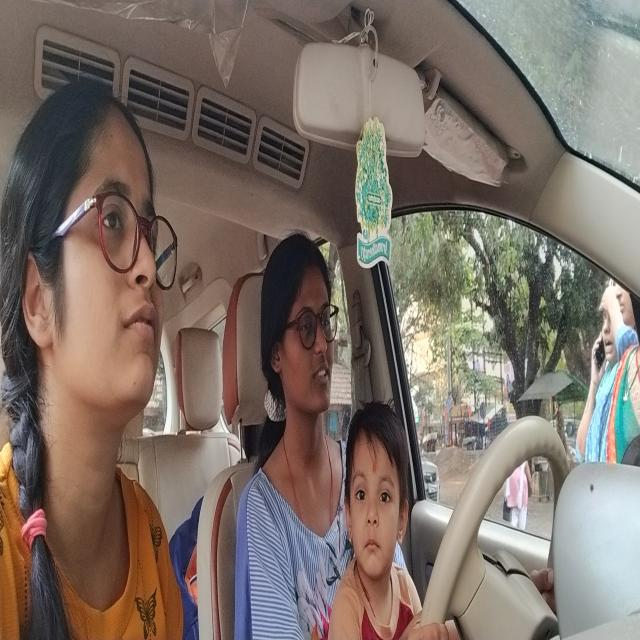child: (344, 406, 412, 586)
person: (0, 57, 181, 535), (253, 232, 344, 456)
